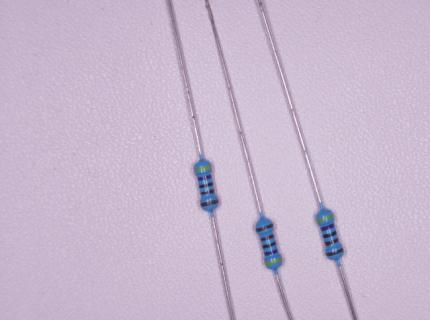Black band: (262, 241, 277, 250), (322, 230, 337, 239), (199, 182, 213, 189)
Brown band: (255, 223, 274, 233), (200, 199, 219, 208), (326, 248, 345, 257), (324, 238, 340, 246), (260, 233, 274, 241), (200, 189, 215, 196)
Violet band: (320, 223, 335, 232), (197, 174, 212, 182), (264, 249, 279, 256)
Yellow band: (316, 214, 334, 223), (265, 258, 283, 266), (194, 165, 212, 172)
